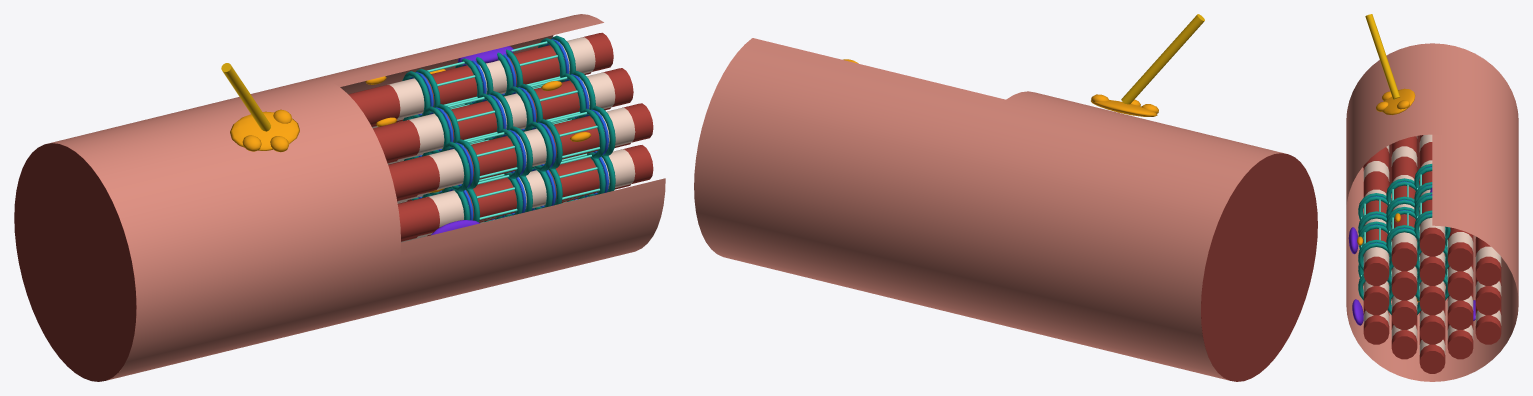
Rendered from fiber.glb.
3 views of the same model, side by side, from view 1: azimuth 30°, elevation 25°; view 2: azimuth 150°, elevation 25°; view 3: azimuth 270°, elevation 25° (orthographic). The views are drawn at different scales.
Parts seen in each view (by area): view 1: Sarcolemma, Myofibrils, Sarcoplasm, Terminal cisternae, Sarcoplasmic reticulum, T-tubules, Axon terminal, Motor neuron axon, Nuclei, Mitochondria; view 2: Sarcolemma, Sarcoplasm, Motor neuron axon, Axon terminal; view 3: Sarcolemma, Myofibrils, Terminal cisternae, Motor neuron axon, Axon terminal, Nuclei, Sarcoplasmic reticulum, Sarcoplasm.
Boxes of the visible parts, x1=… form: Sarcolemma: x1=47, y1=14, x2=665, y2=380; Myofibrils: x1=348, y1=32, x2=653, y2=242; Sarcoplasm: x1=14, y1=143, x2=136, y2=381; Terminal cisternae: x1=402, y1=35, x2=615, y2=222; Sarcoplasmic reticulum: x1=427, y1=41, x2=599, y2=223; T-tubules: x1=410, y1=39, x2=608, y2=220; Axon terminal: x1=230, y1=109, x2=299, y2=152; Motor neuron axon: x1=221, y1=63, x2=270, y2=131; Nuclei: x1=431, y1=46, x2=513, y2=235; Mitochondria: x1=365, y1=69, x2=591, y2=192; Sarcolemma: x1=694, y1=38, x2=1286, y2=380; Sarcoplasm: x1=1201, y1=153, x2=1317, y2=381; Motor neuron axon: x1=1121, y1=14, x2=1204, y2=104; Axon terminal: x1=1091, y1=94, x2=1158, y2=116; Sarcolemma: x1=1346, y1=43, x2=1518, y2=381; Myofibrils: x1=1363, y1=134, x2=1501, y2=373; Terminal cisternae: x1=1358, y1=164, x2=1450, y2=314; Motor neuron axon: x1=1365, y1=14, x2=1399, y2=99; Axon terminal: x1=1376, y1=88, x2=1415, y2=115; Nuclei: x1=1348, y1=188, x2=1475, y2=325; Sarcoplasmic reticulum: x1=1360, y1=174, x2=1447, y2=289; Sarcoplasm: x1=1363, y1=43, x2=1434, y2=185.
Size of the model in its own units: 8 by 4.56 by 3.2.
